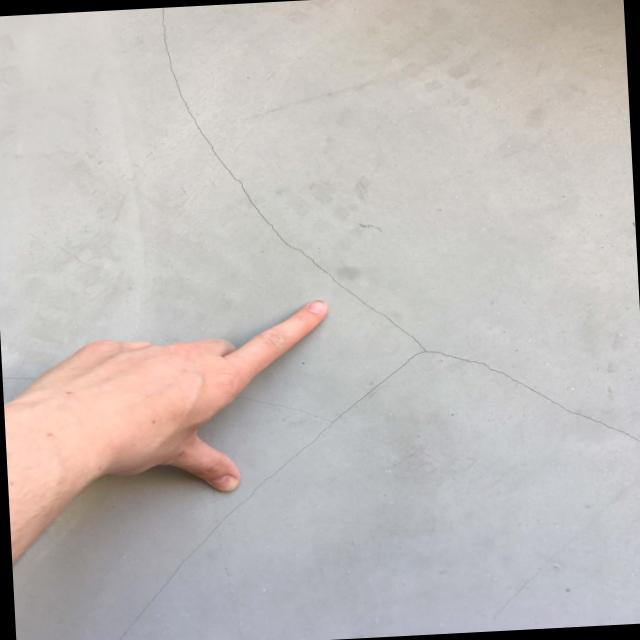crack: (113, 8, 640, 640)
